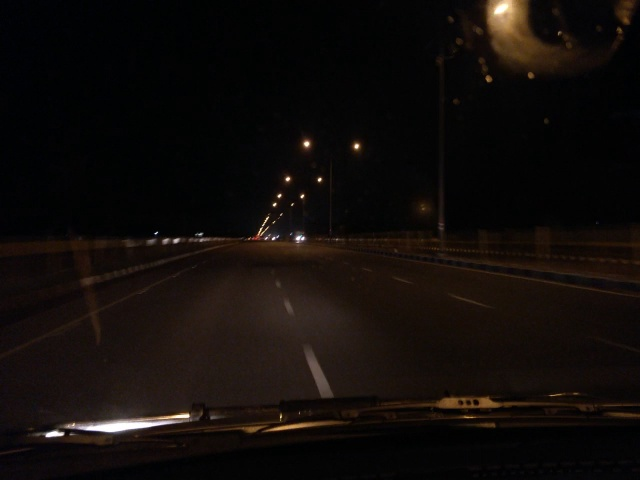bus: (290, 230, 310, 246)
